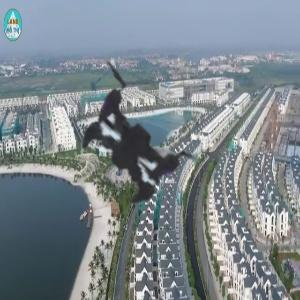drone: (2, 5, 275, 278)
